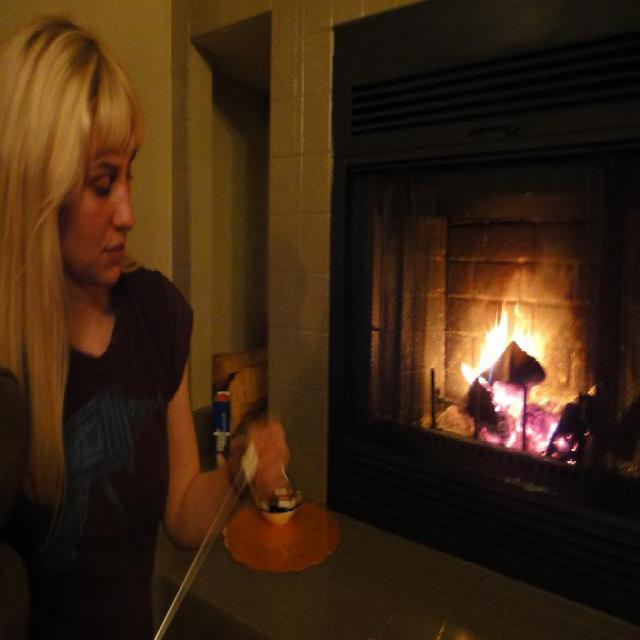Fire: (466, 282, 578, 458)
